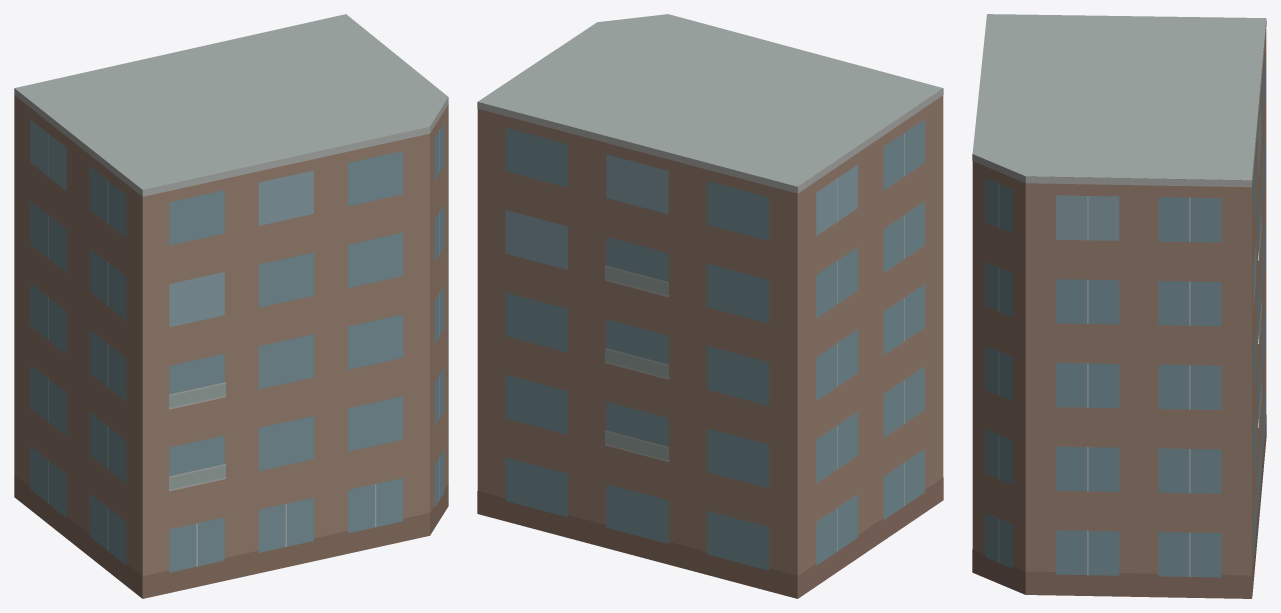
The model's file is survey-upis-32941926.glb.
3 renders of one model, left to right at view 1: azimuth 30°, elevation 25°; view 2: azimuth 150°, elevation 25°; view 3: azimuth 270°, elevation 25°, orthographic. The views are drawn at different scales.
Visible parts, largest first — view 1: survey-upis-32941926.tmp; view 2: survey-upis-32941926.tmp; view 3: survey-upis-32941926.tmp.
Boxes of the visible parts, x1,y1,x2,y2 form: survey-upis-32941926.tmp: [14, 14, 448, 598]; survey-upis-32941926.tmp: [477, 14, 943, 598]; survey-upis-32941926.tmp: [972, 14, 1266, 598].
Size of the model in its own units: 12.45 by 14.6 by 9.3.
